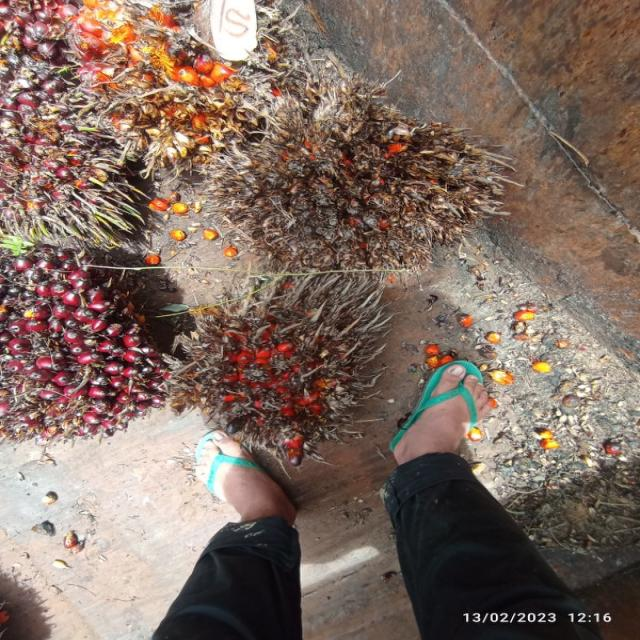fraksi 1: (0, 248, 171, 445)
fraksi 4: (216, 73, 475, 286), (175, 267, 379, 450), (73, 0, 290, 166)
